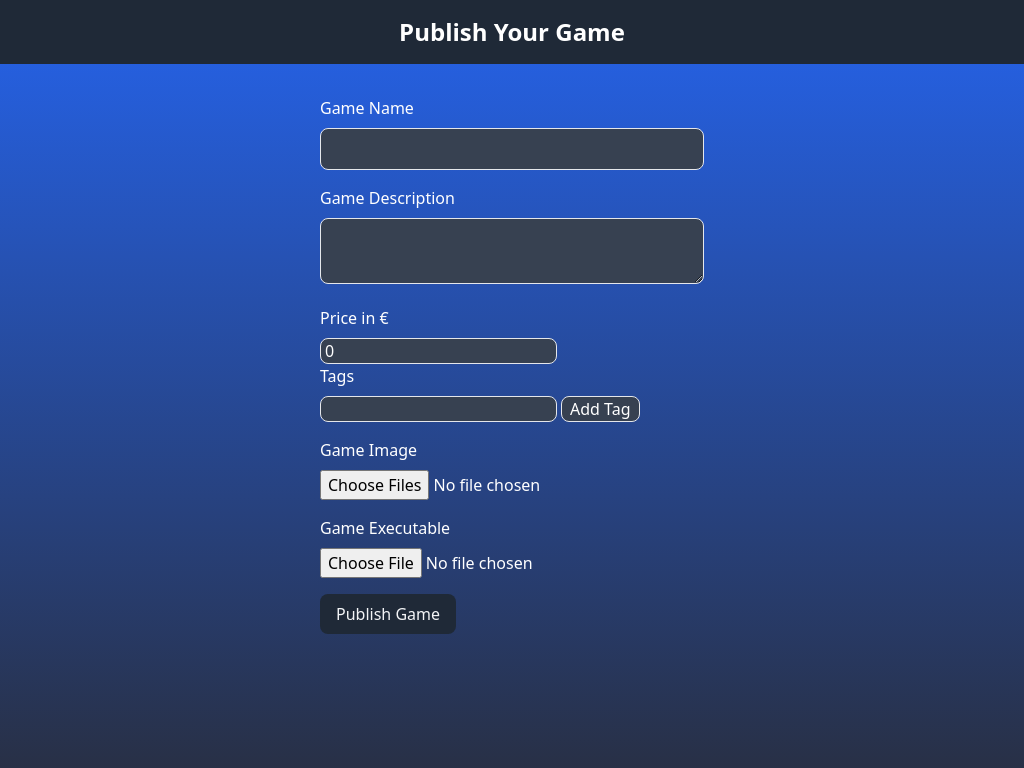
it: PublishYourGames component › should delete the tag if you click on it
Type "Test Tag" into the field labelled "Tags". click: (438, 409)
box: [320, 396, 557, 422]
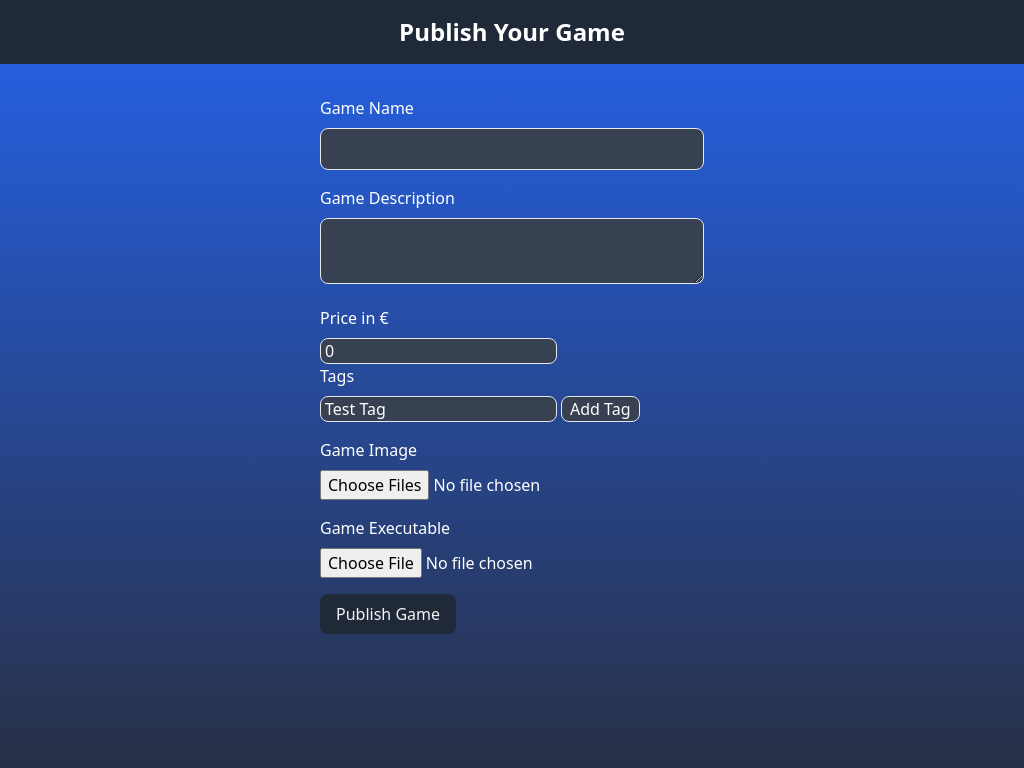
Click the button "Add Tag". click: (600, 409)
box: [561, 396, 640, 422]
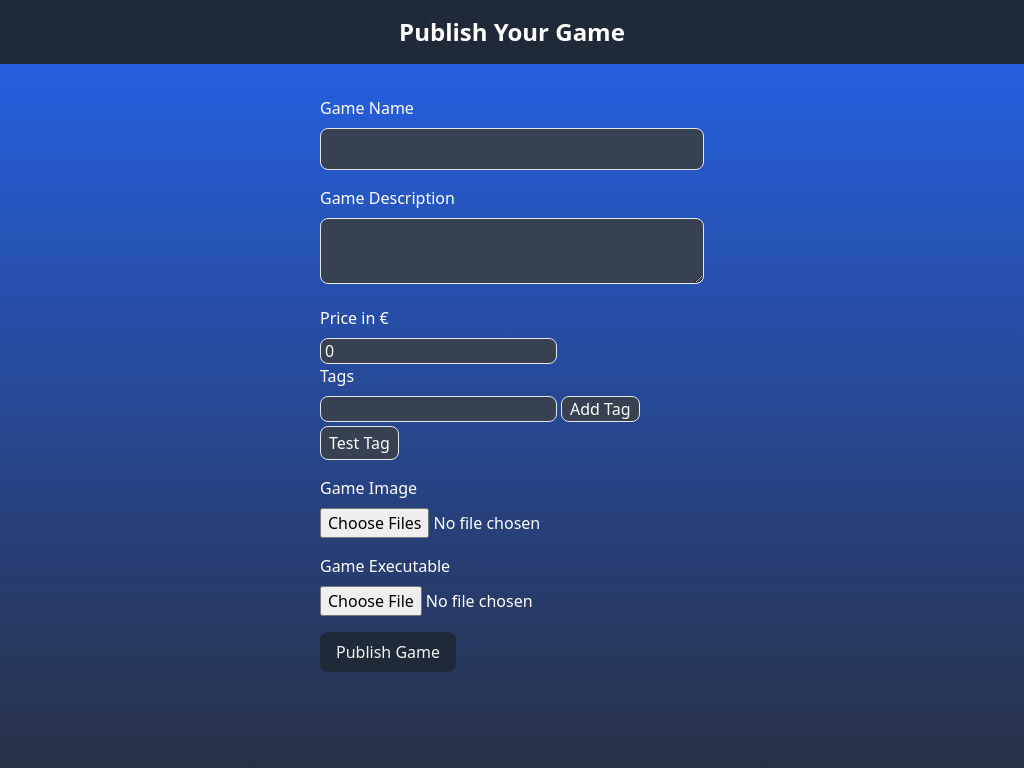
Click the button "Test Tag". click: (359, 443)
box: [320, 426, 399, 460]
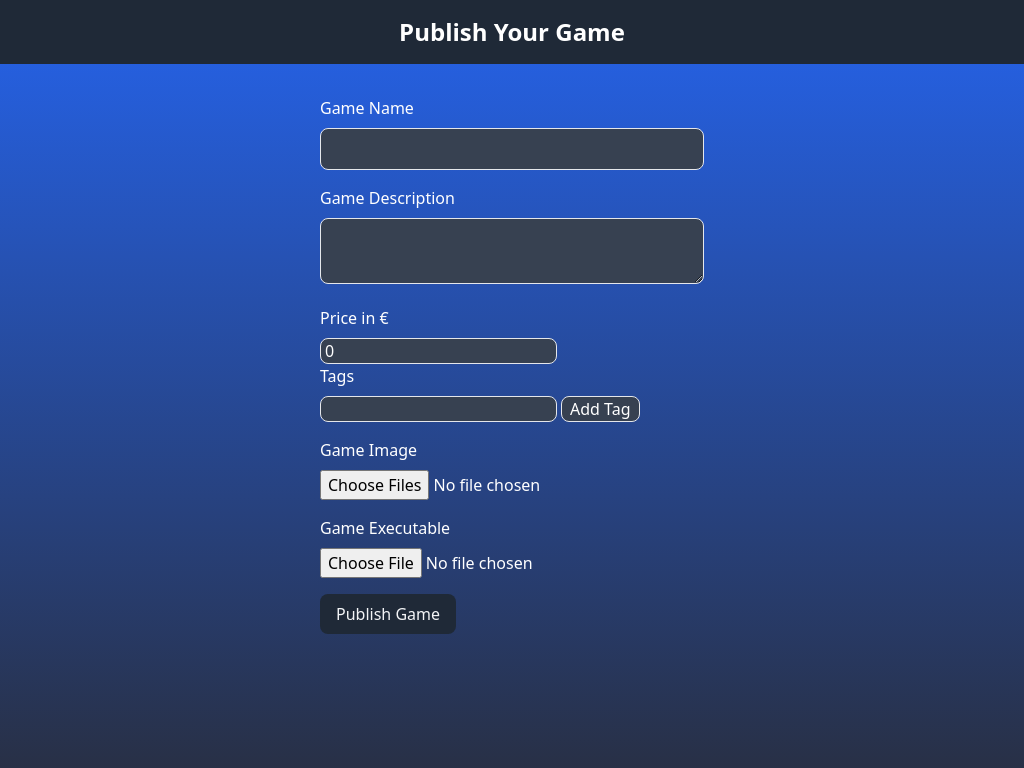
Result: the button "Test Tag" is gone
